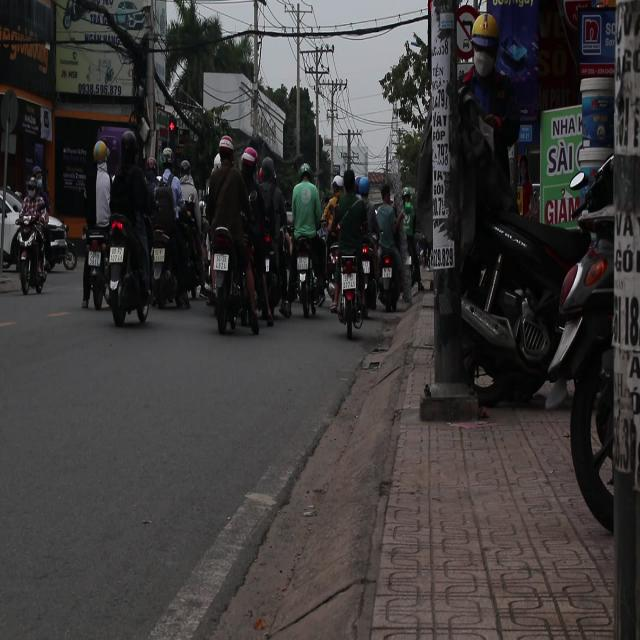motorbike: (93, 218, 155, 327), (208, 226, 257, 336), (8, 200, 62, 296), (336, 250, 362, 335)
